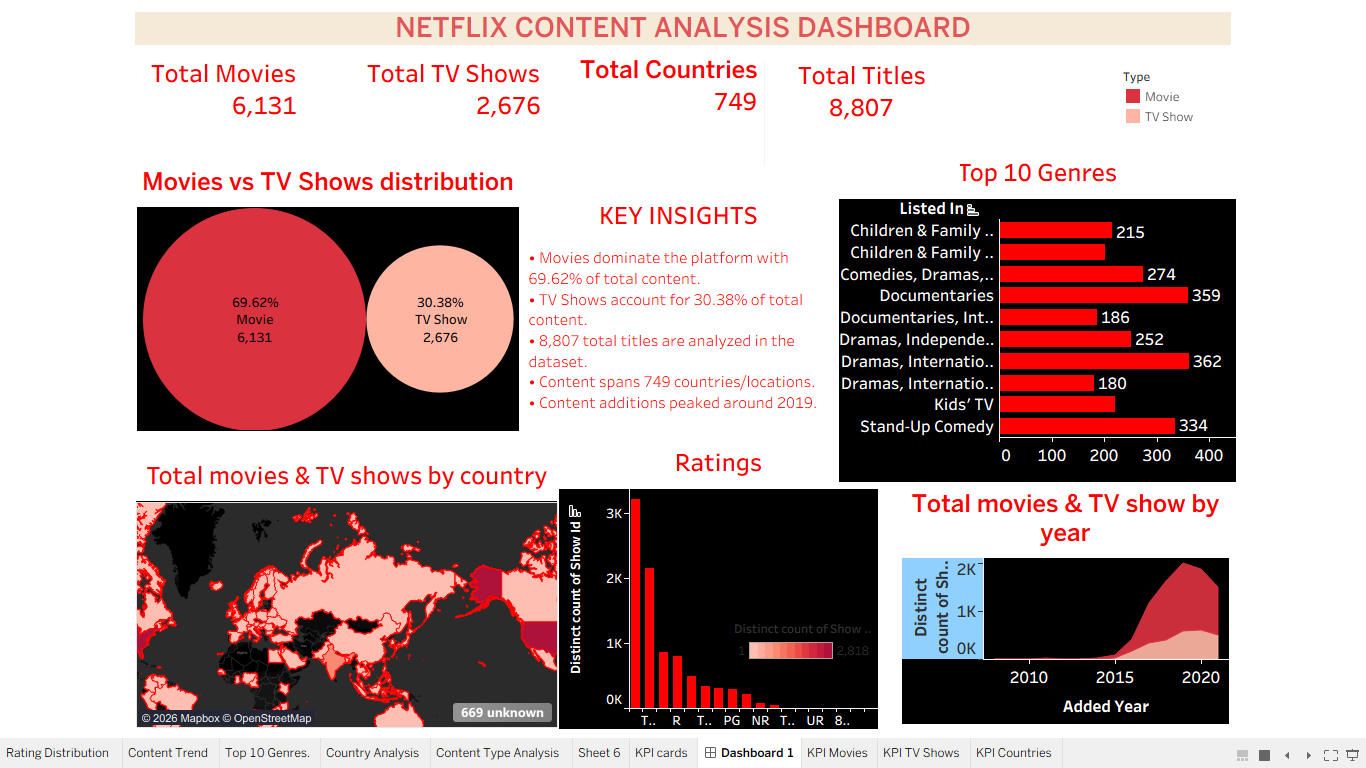

Layout of this report page (visuals, bound fields, positions):
{"tool":"tableau","page":{"name":"Dashboard 1","canvas":[1000,1000],"units":"permille","ordinal":0},"visuals":[{"type":"title","box":[7.1,13.5,985.7,69.1]},{"type":"worksheet","title":"KPI Movies","mark":"Automatic","box":[12.5,70.8,182.1,158.5]},{"type":"worksheet","title":"KPI TV Shows","mark":"Automatic","box":[194.6,70.8,194.6,158.5]},{"type":"worksheet","title":"KPI Countries","mark":"Automatic","box":[389.3,70.8,196.4,158.5]},{"type":"worksheet","title":"KPI cards","mark":"Text","rows":["show_id"],"box":[572.3,82.6,175,141.7]},{"type":"worksheet","title":"Top 10 Genres.","mark":"Automatic","rows":["listed_in"],"cols":["show_id"],"box":[639.3,204.1,354.5,448.6]},{"type":"worksheet","title":"Content Type Analysis","mark":"Circle","box":[12.5,220.9,341.1,372.7]},{"type":"text","box":[359.8,237.8,272.3,355.8]},{"type":"worksheet","title":"Rating Distribution","mark":"Automatic","rows":["show_id"],"cols":["rating"],"box":[389.3,597,284.8,391.2]},{"type":"worksheet","title":"Country Analysis","mark":"Multipolygon","box":[11.6,615.5,376.8,371]},{"type":"worksheet","title":"Content Trend","mark":"Area","rows":["show_id"],"cols":["added_year"],"box":[695.5,657.7,292,323.8]},{"type":"legend","title":"Country Analysis","param":"[federated.0qrnenr10bk1p21gsd8kg1xr1a8v].[ctd:show_id:qk]","box":[545.5,839.8,125,72.5]}]}

Visuals, with their boxes on the dashboard's canvas, which has no fixed pixel size, in thousandths of its width and height (x1, y1, x2, y2). These are canvas units, not pixel positions in the 1366x768 screenshot, which may show the page scaled, cropped or inside an application window:
title: {"x1": 7, "y1": 14, "x2": 993, "y2": 83}
"KPI Movies" worksheet: {"x1": 12, "y1": 71, "x2": 195, "y2": 229}
"KPI TV Shows" worksheet: {"x1": 195, "y1": 71, "x2": 389, "y2": 229}
"KPI Countries" worksheet: {"x1": 389, "y1": 71, "x2": 586, "y2": 229}
"KPI cards" worksheet (Text marks): {"x1": 572, "y1": 83, "x2": 747, "y2": 224}
"Top 10 Genres." worksheet: {"x1": 639, "y1": 204, "x2": 994, "y2": 653}
"Content Type Analysis" worksheet (Circle marks): {"x1": 12, "y1": 221, "x2": 354, "y2": 594}
text: {"x1": 360, "y1": 238, "x2": 632, "y2": 594}
"Rating Distribution" worksheet: {"x1": 389, "y1": 597, "x2": 674, "y2": 988}
"Country Analysis" worksheet (Multipolygon marks): {"x1": 12, "y1": 616, "x2": 388, "y2": 986}
"Content Trend" worksheet (Area marks): {"x1": 696, "y1": 658, "x2": 988, "y2": 982}
"Country Analysis" legend: {"x1": 546, "y1": 840, "x2": 670, "y2": 912}
